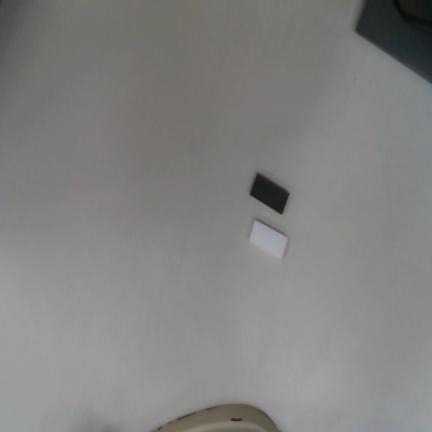Paralelepipedo: (250, 173, 289, 215), (249, 220, 288, 261)
